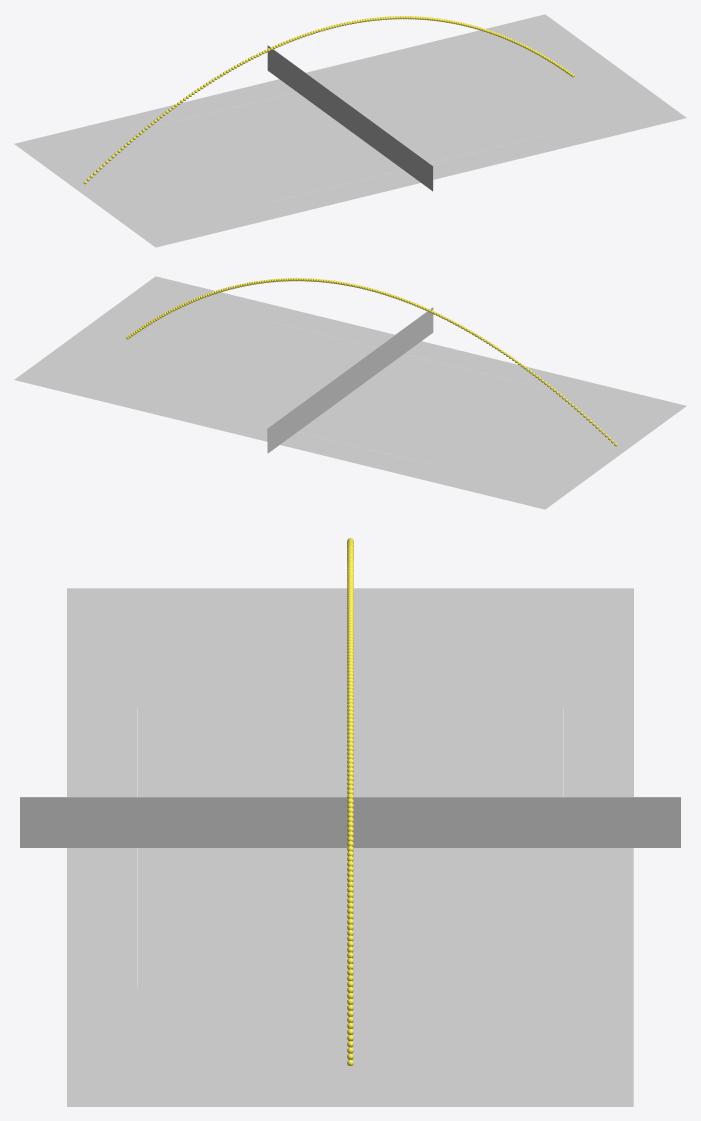
Rendered from 3d_Beispiel_Schuss-1.fbx.
3 renders of one model, top to bottom at view 1: azimuth 30°, elevation 25°; view 2: azimuth 150°, elevation 25°; view 3: azimuth 270°, elevation 25°, orthographic. The views are drawn at different scales.
Parts seen in each view (by area): view 1: Hinteres-Feld_2, Hinteres-Feld_1, T_3, T_4, T_2, T_1, Korridor_3, Korridor_2, Korridor_4, Netz, Korridor_1; view 2: Hinteres-Feld_2, Hinteres-Feld_1, T_4, T_3, T_1, T_2, Korridor_2, Korridor_3, Korridor_1, Netz, Korridor_4; view 3: Hinteres-Feld_1, Hinteres-Feld_2, Netz, T_1, T_2, T_3, T_4, Korridor_1, Korridor_4, Korridor_2, Korridor_3.
Boxes of the visible parts, box(x1,y1,x2,y2) form: Hinteres-Feld_2: box(32, 127, 260, 234); Hinteres-Feld_1: box(441, 27, 668, 134); T_3: box(154, 92, 349, 165); T_4: box(208, 131, 402, 204); T_2: box(377, 96, 546, 163); T_1: box(324, 57, 492, 124); Korridor_3: box(138, 170, 420, 247); Korridor_2: box(14, 79, 296, 156); Korridor_4: box(430, 105, 686, 179); Netz: box(267, 45, 433, 191); Korridor_1: box(306, 14, 562, 85); Hinteres-Feld_2: box(440, 389, 668, 496); Hinteres-Feld_1: box(32, 289, 260, 396); T_4: box(351, 354, 546, 427); T_3: box(298, 393, 492, 466); T_1: box(154, 358, 323, 425); T_2: box(208, 319, 376, 386); Korridor_2: box(280, 432, 562, 509); Korridor_3: box(404, 341, 686, 418); Korridor_1: box(14, 367, 270, 441); Netz: box(267, 307, 433, 453); Korridor_4: box(138, 276, 394, 347); Hinteres-Feld_1: box(137, 987, 563, 1106); Hinteres-Feld_2: box(137, 588, 563, 707); Netz: box(20, 797, 680, 847); T_1: box(352, 848, 562, 987); T_2: box(138, 848, 348, 987); T_3: box(353, 708, 562, 796); T_4: box(138, 708, 347, 796); Korridor_1: box(563, 848, 633, 1106); Korridor_4: box(67, 848, 137, 1106); Korridor_2: box(563, 588, 633, 796); Korridor_3: box(67, 588, 137, 796).
Bounding box in the file's own units: 2381 × 472 × 1280.
